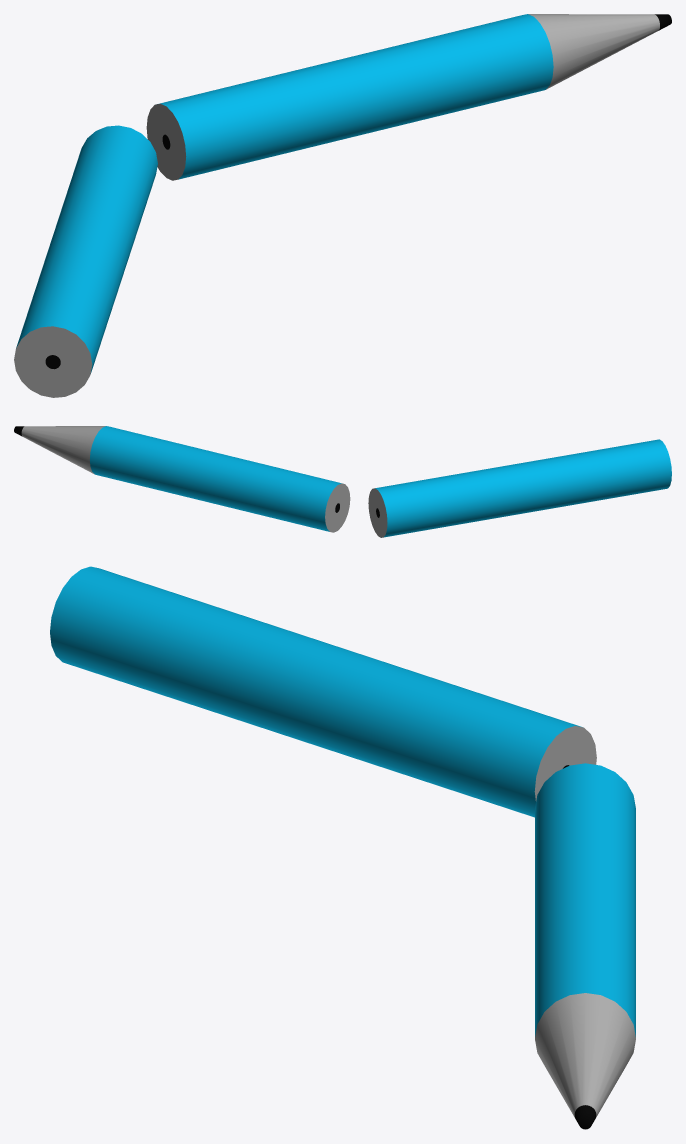
File: pencilshattered.fbx
3 views of the same model, one above another, from view 1: azimuth 30°, elevation 25°; view 2: azimuth 150°, elevation 25°; view 3: azimuth 270°, elevation 25° (orthographic). The views are drawn at different scales.
Visible parts, largest first — view 1: pasted__pCylinder1; view 2: pasted__pCylinder1; view 3: pasted__pCylinder1.
Part boxes in pixels (x1=…): pasted__pCylinder1: x1=14, y1=14, x2=671, y2=397; pasted__pCylinder1: x1=14, y1=426, x2=671, y2=537; pasted__pCylinder1: x1=50, y1=566, x2=635, y2=1129.
Size of the model in its own units: 18.9 by 1.54 by 8.92.
